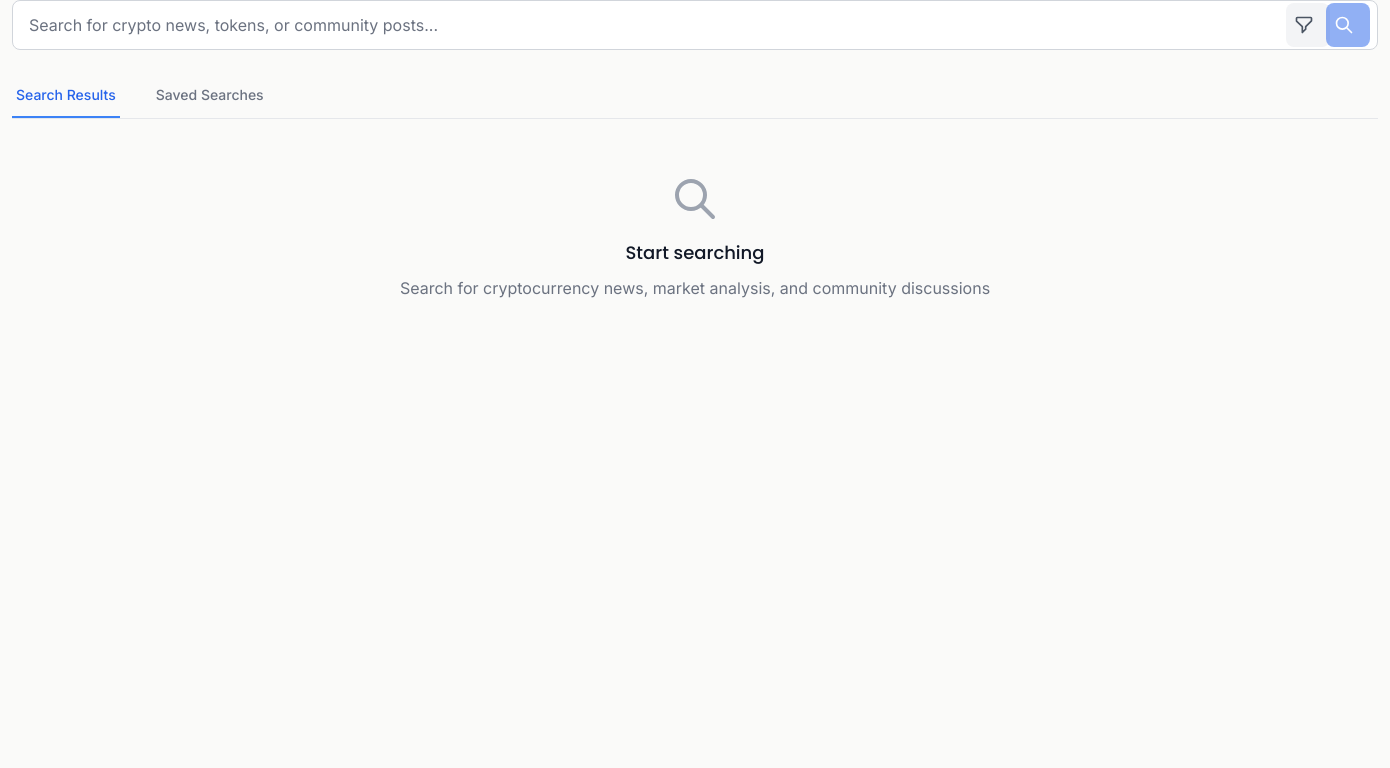
Test: SearchInterface Component › 2. Advanced Filtering Options › should render filter panel with all filter options
// Click filter toggle
Step 1. Click the button named "filters" → (1308, 25), box [1286,3,1330,47]
(page scrolled)
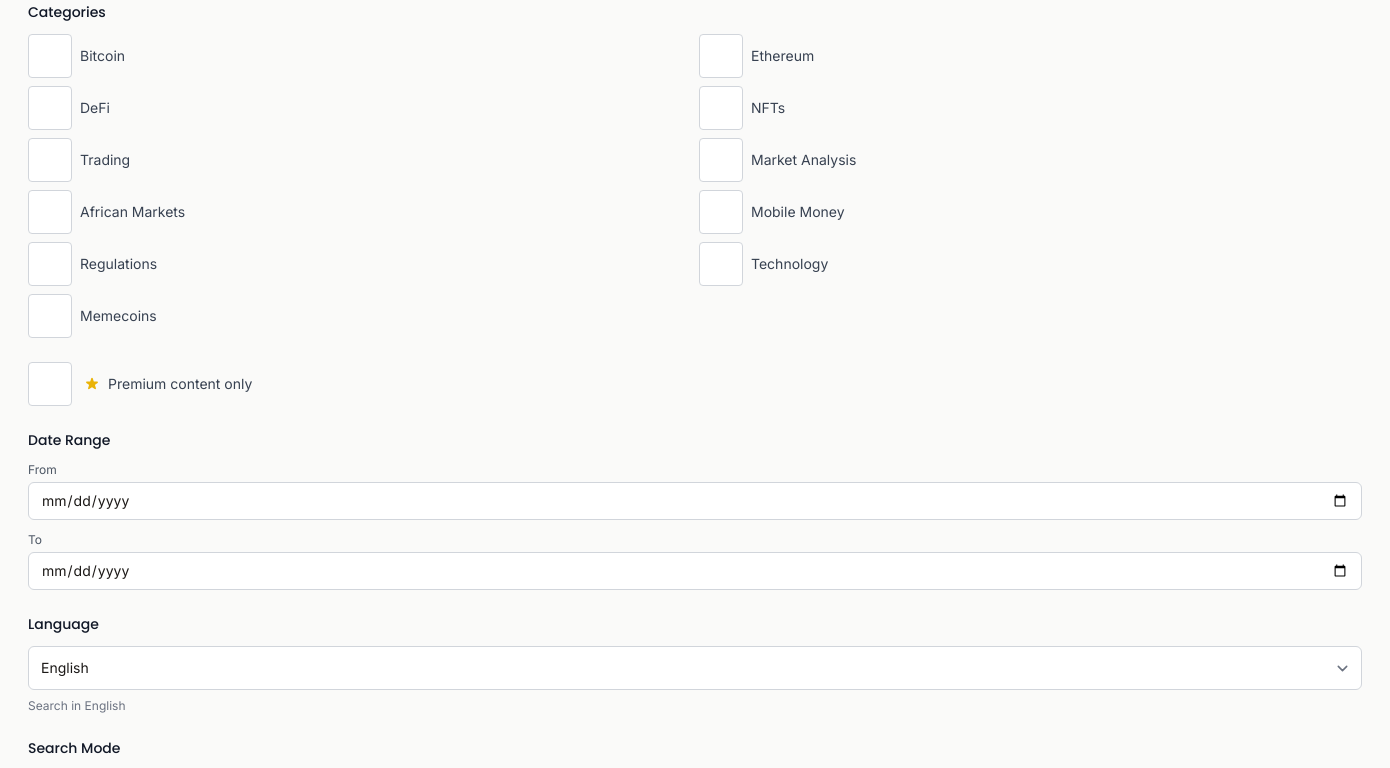
Now the heading "Categories" is shown, box [28,2,106,22]
Now the heading "Date Range" is shown, box [28,430,110,450]
Now the heading "Language" is shown, box [28,614,99,634]
